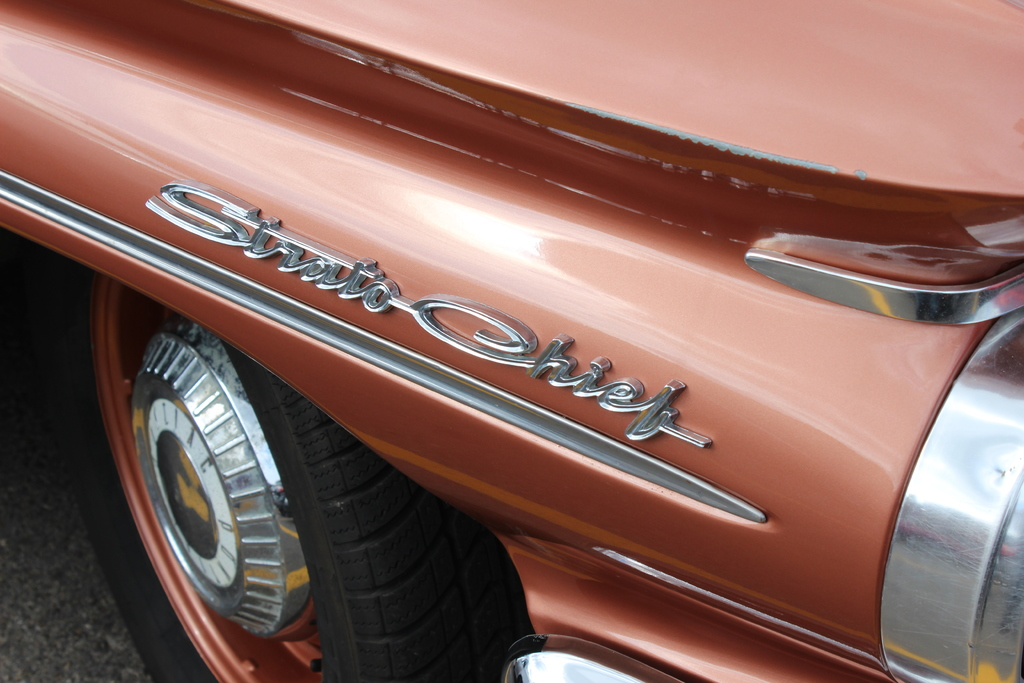Car: (58, 28, 1024, 683)
